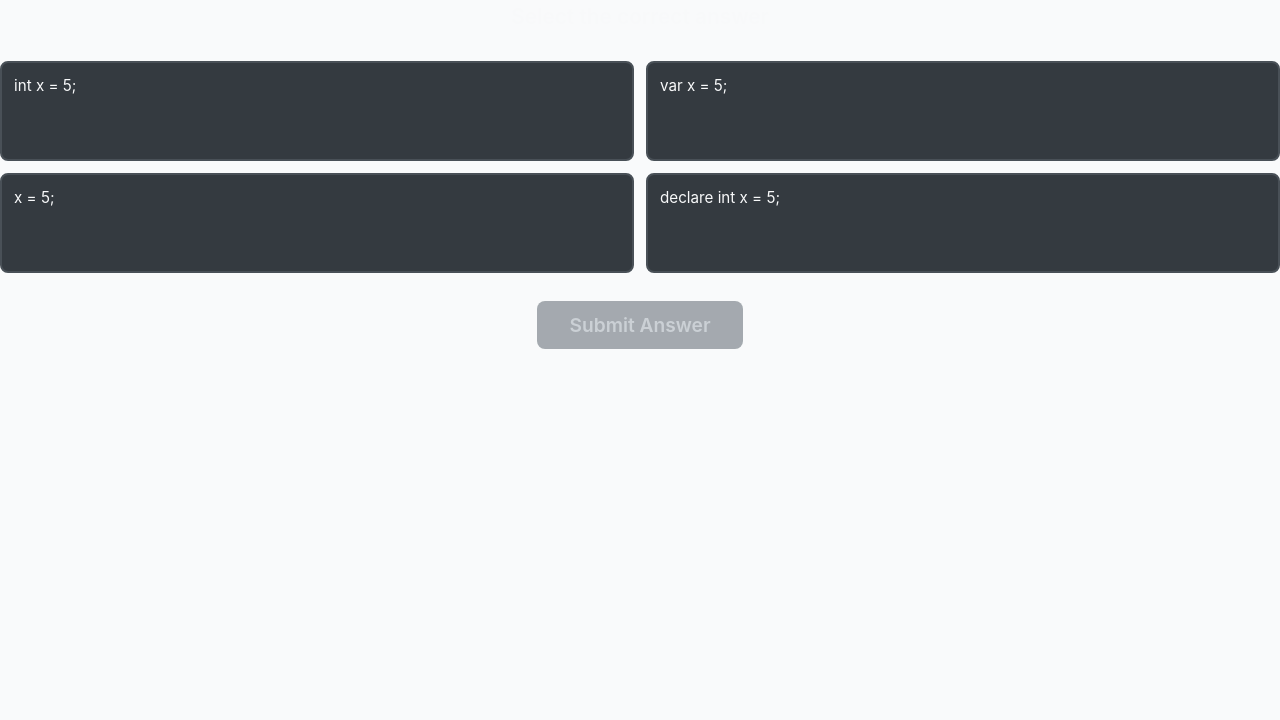
Test: AnswerComponent › Option Selection › should select option when clicked (single selection)
Step 1. Click the button "int x = 5;" → (45, 86), box [0,61,634,161]
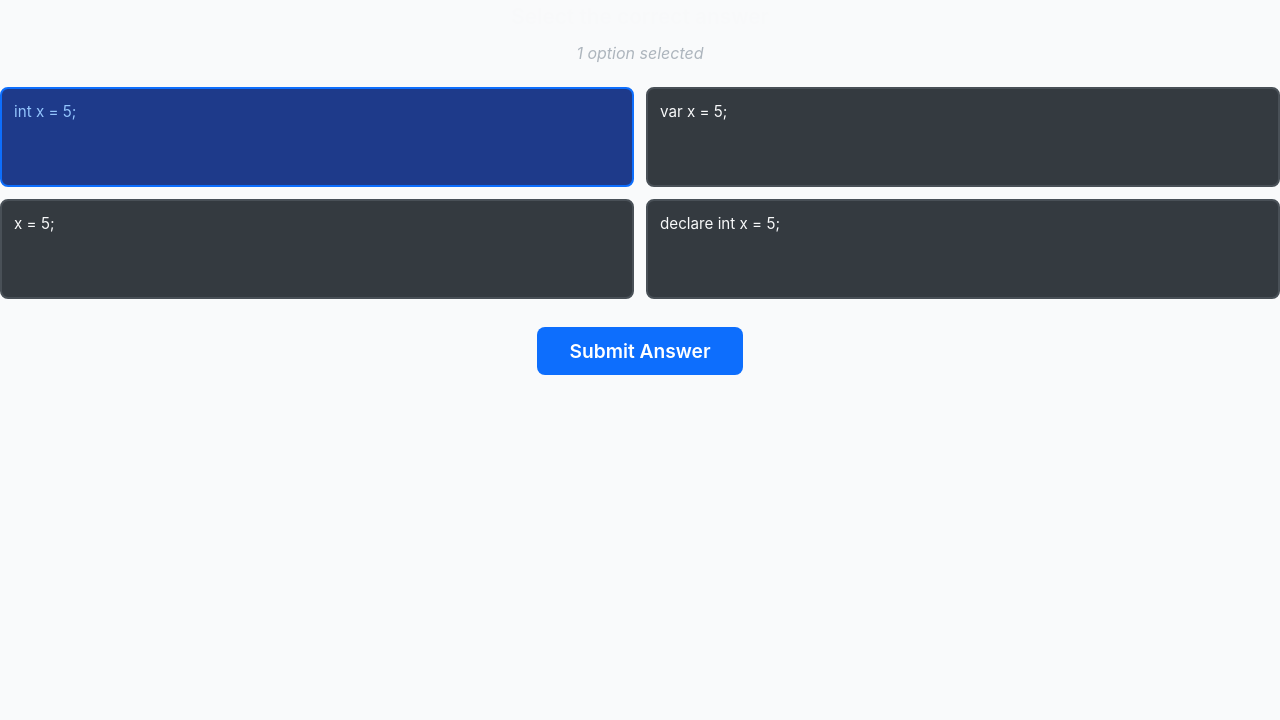
Expected: the text "1 option selected" is shown, [576,43,704,63]
